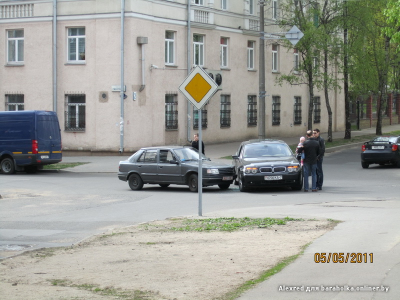priority_road: (182, 71, 214, 105)
